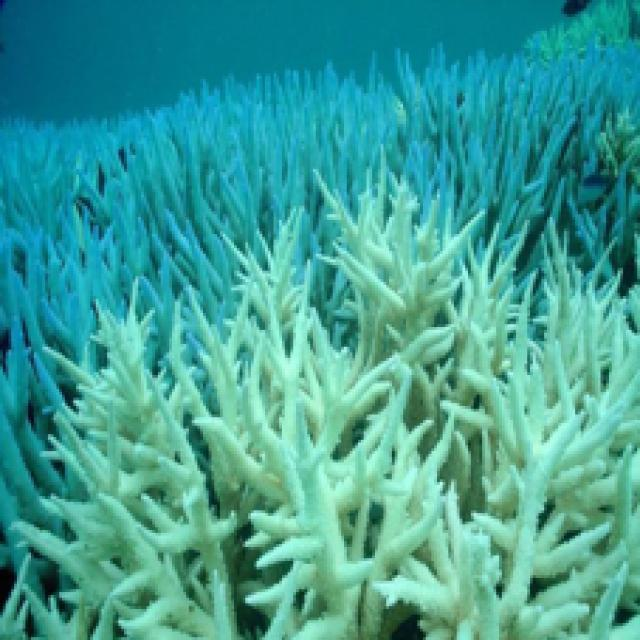Bleached: (68, 274, 640, 640), (75, 321, 234, 640), (329, 193, 481, 360), (277, 406, 382, 640), (230, 230, 310, 347)
